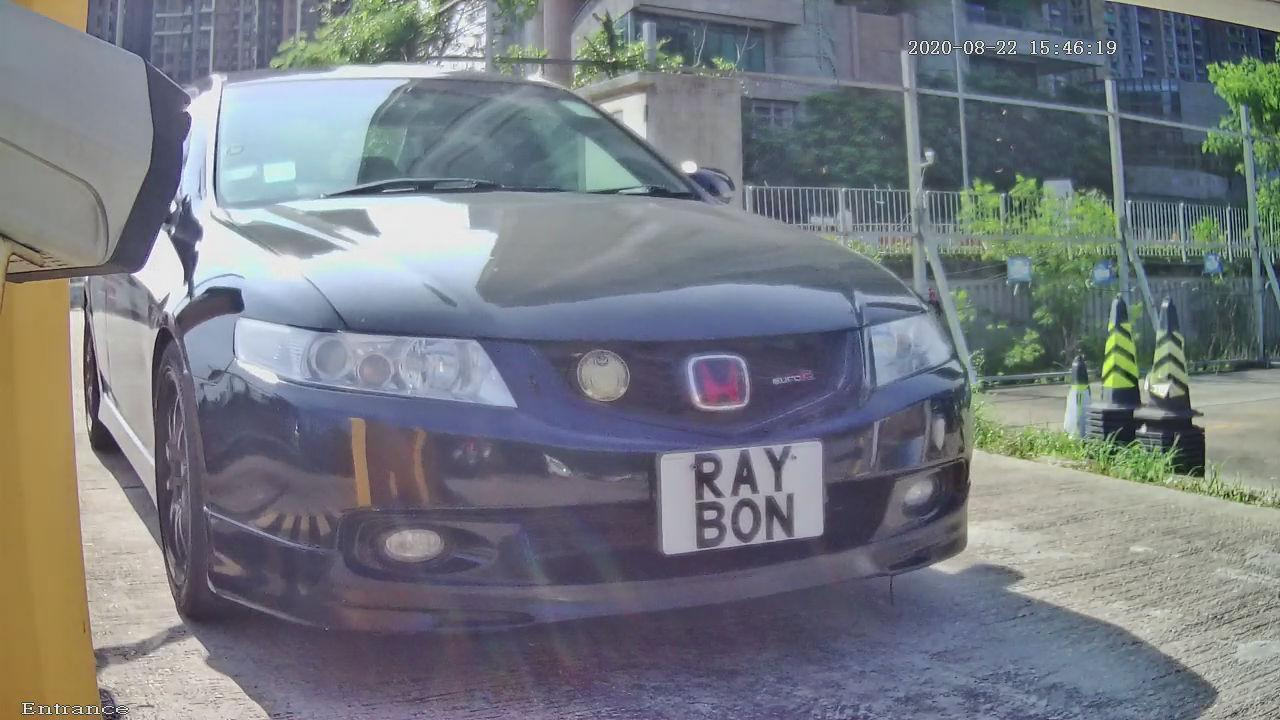Car: (75, 17, 1046, 692)
License Plate: (641, 422, 835, 566)
